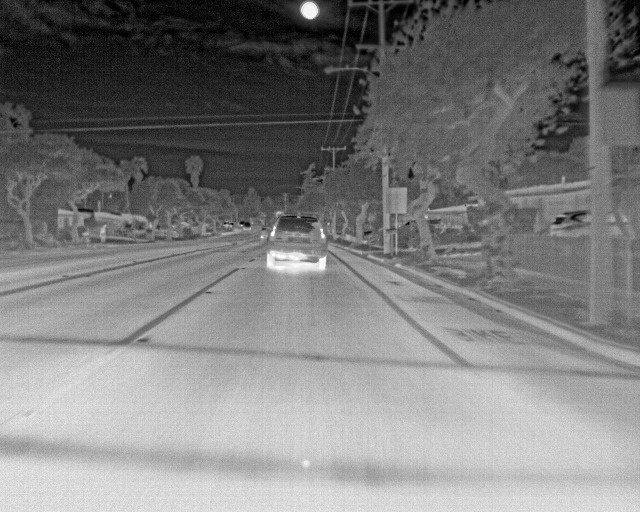vehicle: (267, 215, 326, 274)
